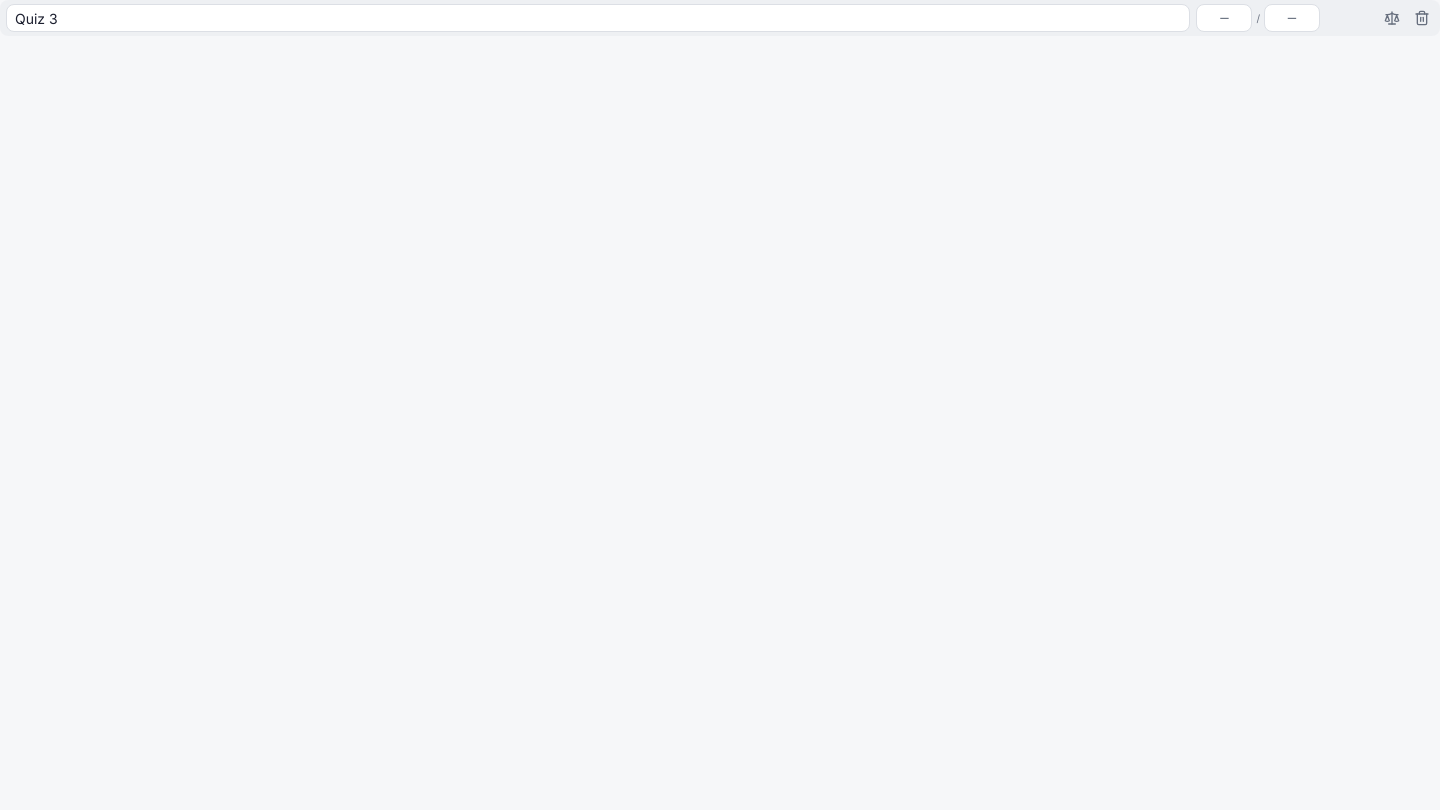
it: SubBreakdownRow › says plainly that an unmarked row loses nothing
Click the button named "Delete sub-breakdown" at (1422, 18), box left=1410, top=6, right=1434, bottom=30
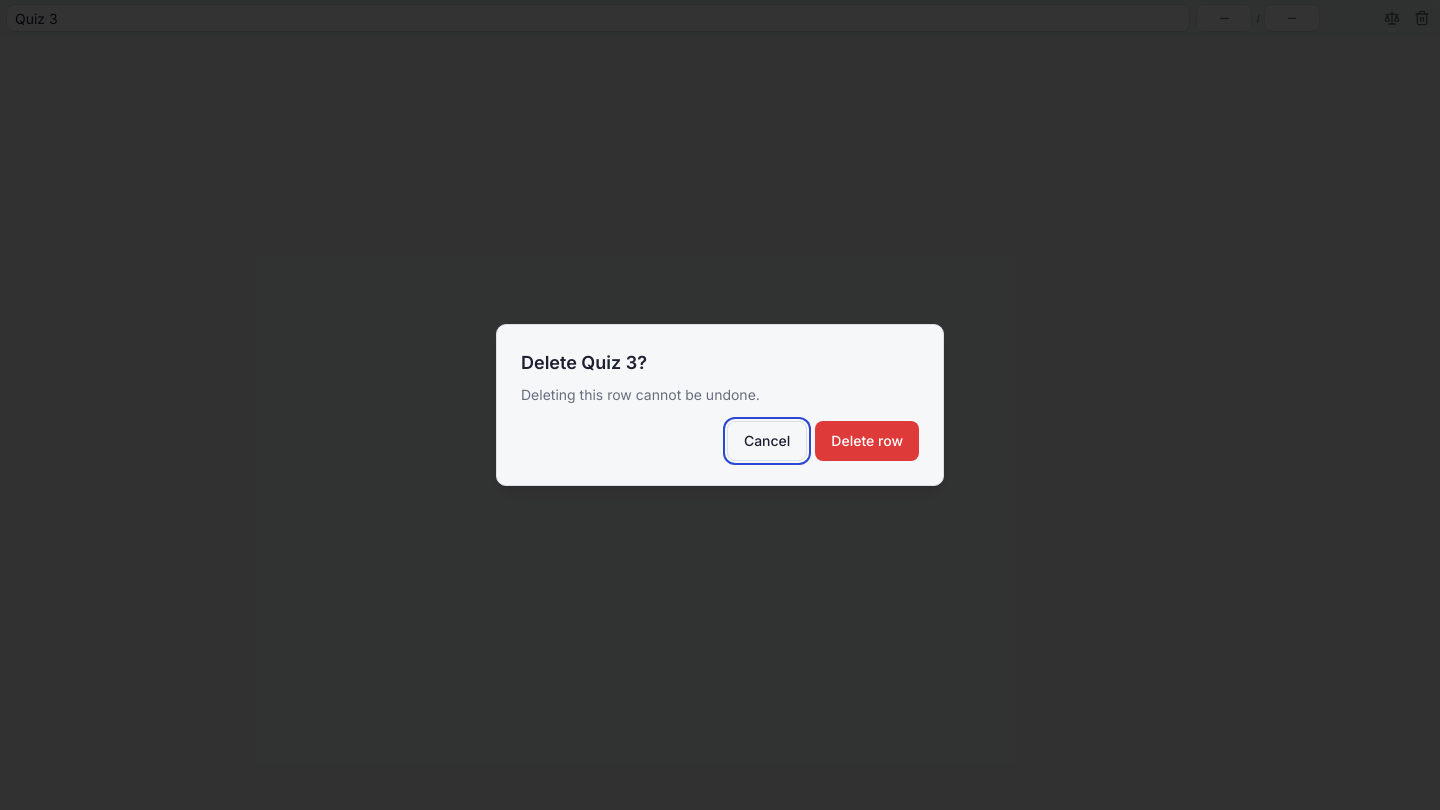
Check: the text "Deleting this row cannot be undone." is shown, box left=521, top=386, right=760, bottom=403
